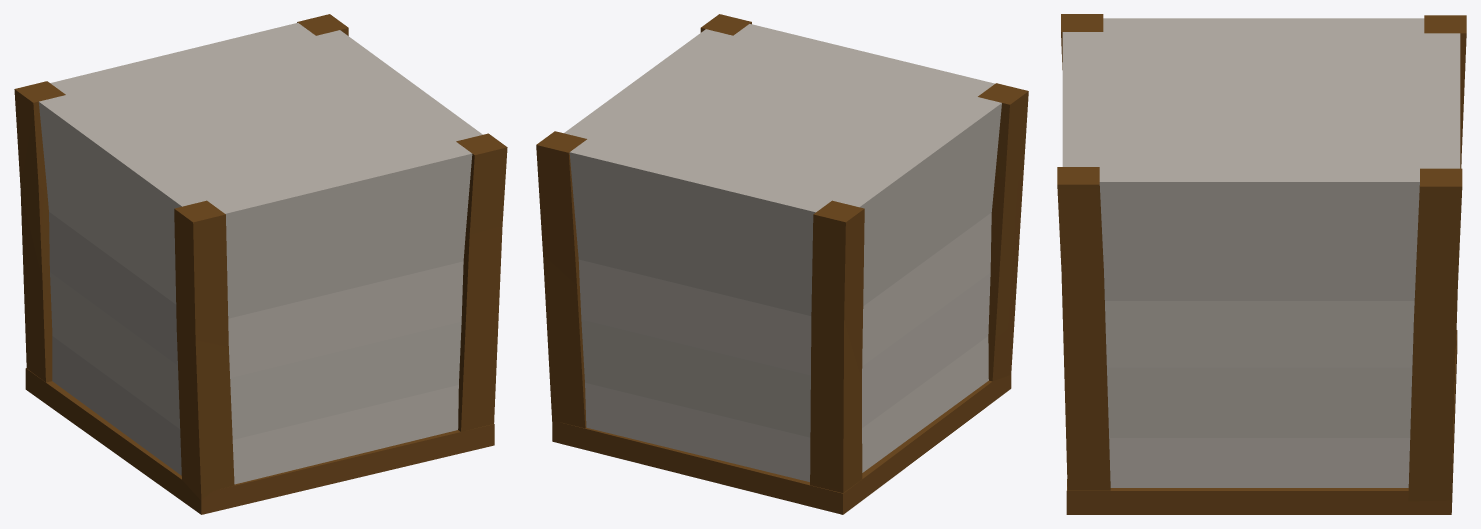
File: SmallHouse_05.fbx
The picture shows the model from 3 angles, left to right: view 1: azimuth 30°, elevation 25°; view 2: azimuth 150°, elevation 25°; view 3: azimuth 270°, elevation 25°; orthographic projection. The views are drawn at different scales.
Visible parts, largest first — view 1: SmallHouse_05; view 2: SmallHouse_05; view 3: SmallHouse_05.
Boxes of the visible parts, <box> form: SmallHouse_05: <box>14,14,507,514</box>; SmallHouse_05: <box>536,14,1028,514</box>; SmallHouse_05: <box>1057,14,1466,514</box>.
Bounding box in the file's own units: 303 × 274 × 304.
